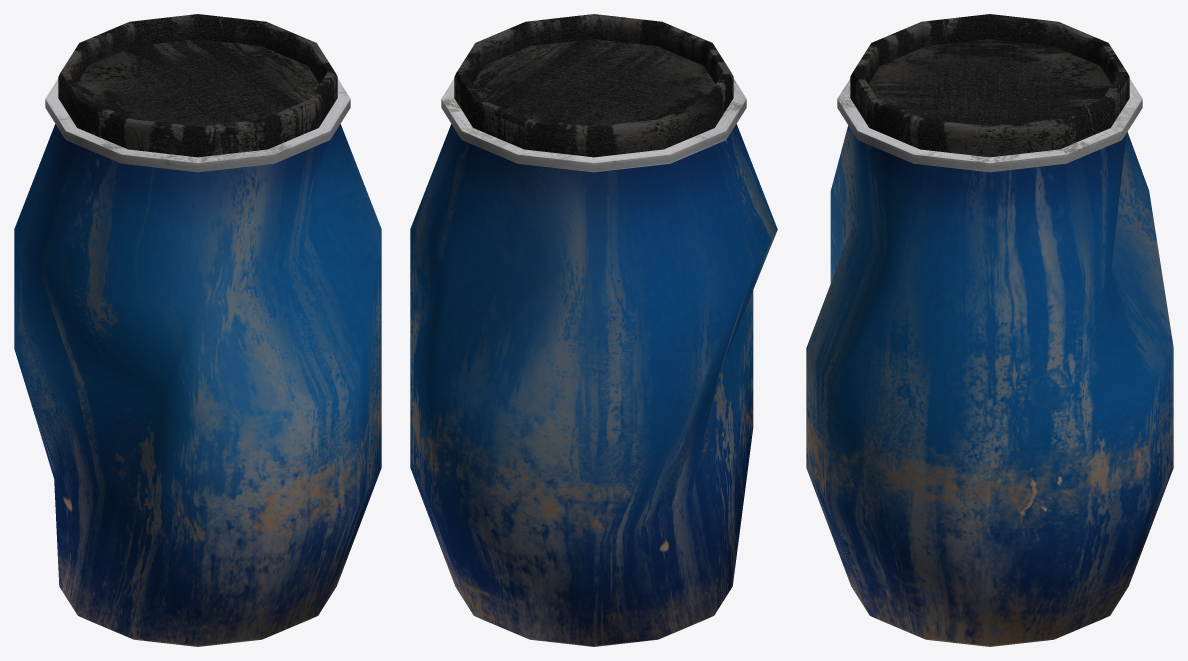
The model's file is barrel03.obj.
3 renders of one model, left to right at view 1: azimuth 30°, elevation 25°; view 2: azimuth 150°, elevation 25°; view 3: azimuth 270°, elevation 25°, orthographic.
Visible parts, largest first — view 1: Barrel03, Barrel03_Lid; view 2: Barrel03, Barrel03_Lid; view 3: Barrel03, Barrel03_Lid.
Boxes of the visible parts, left/top/right/bottom form: Barrel03: left=14, top=79, right=381, bottom=646; Barrel03_Lid: left=58, top=14, right=337, bottom=157; Barrel03: left=410, top=79, right=777, bottom=646; Barrel03_Lid: left=454, top=14, right=733, bottom=157; Barrel03: left=806, top=79, right=1173, bottom=646; Barrel03_Lid: left=850, top=14, right=1129, bottom=157.
Bounding box in the file's own units: 0.7 × 1.09 × 0.7.
